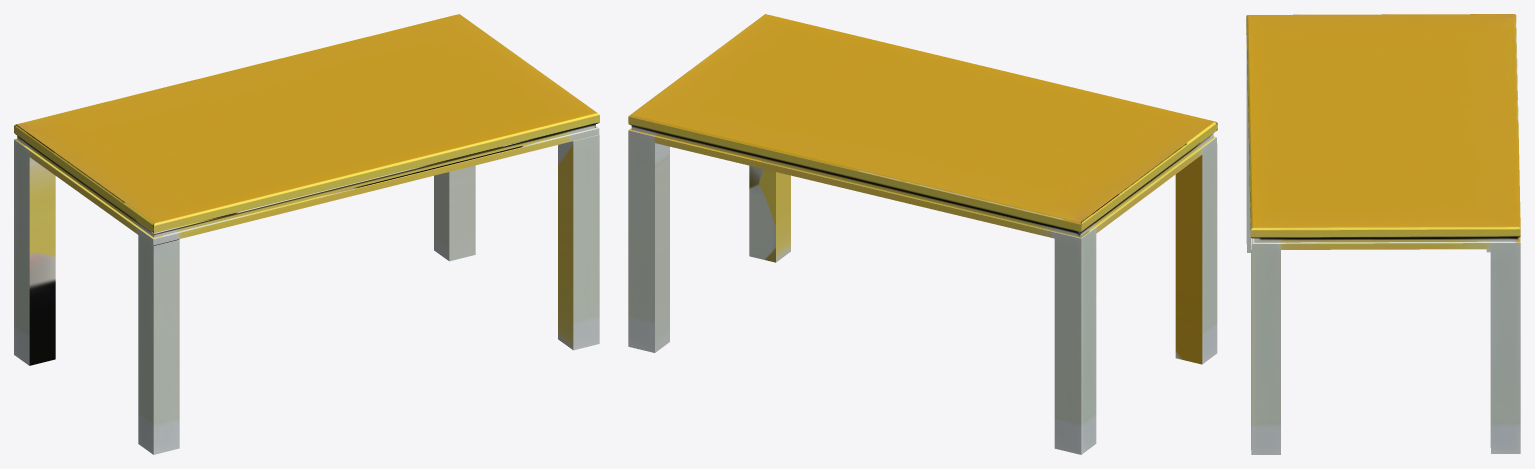
File: edited_mesh.glb
3 views of the same model, side by side, from view 1: azimuth 30°, elevation 25°; view 2: azimuth 150°, elevation 25°; view 3: azimuth 270°, elevation 25° (orthographic). The views are drawn at different scales.
Visible parts, largest first — view 1: solid; view 2: solid; view 3: solid.
Part boxes in pixels (x1=…): solid: x1=14, y1=14, x2=599, y2=454; solid: x1=628, y1=14, x2=1217, y2=454; solid: x1=1246, y1=14, x2=1520, y2=454.
Size of the model in its own units: 2 by 0.9799 by 1.08.
Materials: 1 (1 with a texture image).
